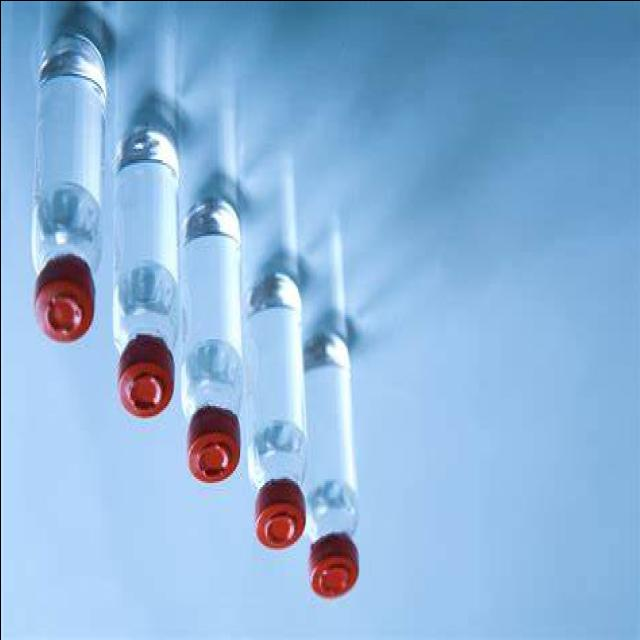vial: (188, 414, 238, 490), (116, 353, 170, 421), (38, 272, 89, 338), (250, 504, 312, 546), (311, 552, 358, 598)
